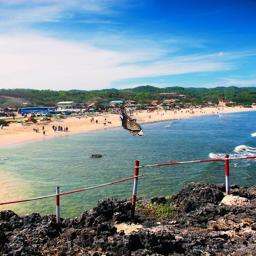Cuckoo: (119, 104, 145, 136)
